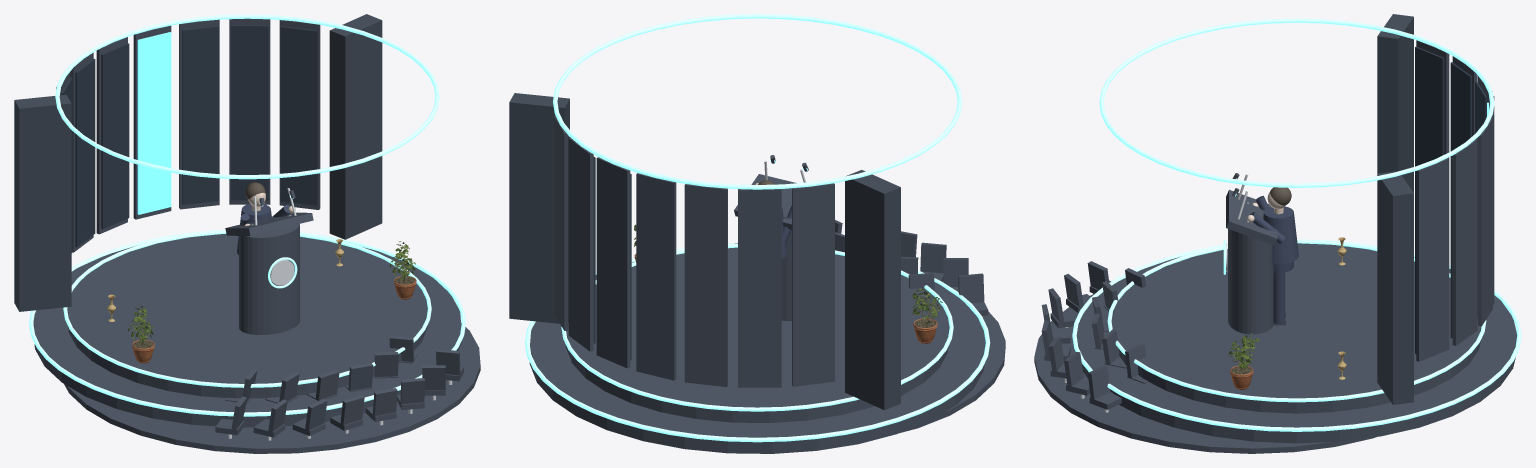
The model's file is conference_environment.glb.
The picture shows the model from 3 angles, left to right: view 1: azimuth 30°, elevation 25°; view 2: azimuth 150°, elevation 25°; view 3: azimuth 270°, elevation 25°; orthographic projection. The views are drawn at different scales.
Parts seen in each view (by area): view 1: Plenary_Stage_Upper, Plenary_Stage_Lower, Acoustic_Fin_0, Acoustic_Fin_1, Auditorium_Riser_1, Screen_Panel_LED_6, Screen_Panel_LED_4, Screen_Panel_LED_5, Screen_Panel_LED_3, Podium_Column, Screen_Panel_LED_2, Screen_Header_LED (+23 smaller); view 2: Plenary_Stage_Upper, Plenary_Stage_Lower, Acoustic_Fin_0, Acoustic_Fin_1, Screen_Panel_Frame_1, Screen_Panel_Frame_2, Screen_Panel_Frame_0, Screen_Panel_Frame_3, Screen_Panel_Frame_4, Screen_Panel_Frame_5, Screen_Header_LED, Plenary_LED_Lower (+10 smaller); view 3: Plenary_Stage_Upper, Plenary_Stage_Lower, Acoustic_Fin_1, Screen_Panel_Frame_6, Auditorium_Riser_1, Acoustic_Fin_0, Screen_Panel_Frame_5, Screen_Header_LED, Podium_Column, Plenary_LED_Lower, Screen_Panel_LED_0, Screen_Panel_Frame_4 (+11 smaller).
Boxes of the visible parts, box(x1,y1,x2,y2) form: Plenary_Stage_Upper: box(67, 234, 427, 398); Plenary_Stage_Lower: box(33, 246, 461, 427); Acoustic_Fin_0: box(14, 94, 71, 311); Acoustic_Fin_1: box(329, 14, 382, 239); Auditorium_Riser_1: box(64, 323, 480, 453); Screen_Panel_LED_6: box(280, 26, 317, 205); Screen_Panel_LED_4: box(182, 26, 218, 204); Screen_Panel_LED_5: box(231, 25, 268, 200); Screen_Panel_LED_3: box(137, 32, 171, 214); Podium_Column: box(239, 216, 299, 334); Screen_Panel_LED_2: box(101, 43, 129, 229); Screen_Header_LED: box(55, 14, 439, 179); Plenary_Stage_Upper: box(566, 247, 949, 422); Plenary_Stage_Lower: box(529, 262, 985, 453); Acoustic_Fin_0: box(845, 170, 900, 409); Acoustic_Fin_1: box(509, 93, 569, 323); Screen_Panel_Frame_1: box(738, 189, 781, 387); Screen_Panel_Frame_2: box(684, 184, 727, 386); Screen_Panel_Frame_0: box(792, 183, 834, 386); Screen_Panel_Frame_3: box(636, 173, 676, 380); Screen_Panel_Frame_4: box(596, 157, 630, 368); Screen_Panel_Frame_5: box(568, 137, 593, 351); Screen_Header_LED: box(553, 14, 962, 189); Plenary_LED_Lower: box(525, 243, 990, 442); Plenary_Stage_Upper: box(1111, 243, 1481, 413); Plenary_Stage_Lower: box(1076, 257, 1517, 443); Acoustic_Fin_1: box(1377, 171, 1413, 404); Screen_Panel_Frame_6: box(1416, 158, 1449, 361); Auditorium_Riser_1: box(1034, 294, 1376, 453); Acoustic_Fin_0: box(1377, 14, 1413, 192); Screen_Panel_Frame_5: box(1452, 139, 1477, 345); Screen_Header_LED: box(1099, 18, 1494, 187); Podium_Column: box(1228, 229, 1273, 334); Plenary_LED_Lower: box(1072, 239, 1521, 431); Screen_Panel_LED_0: box(1415, 46, 1444, 173); Screen_Panel_Frame_4: box(1478, 118, 1492, 326).
Size of the model in its own units: 4.48 by 2.87 by 4.86.
16 materials, 5 textured.
